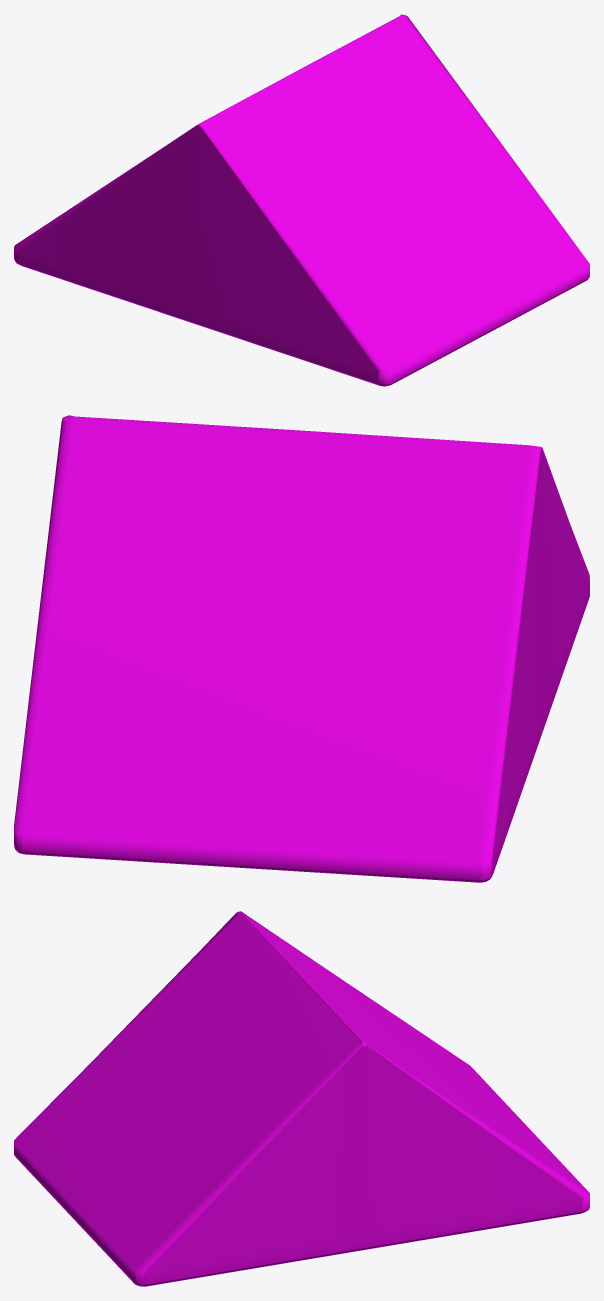
The model's file is Triangle FBX.fbx.
3 renders of one model, top to bottom at view 1: azimuth 30°, elevation 25°; view 2: azimuth 150°, elevation 25°; view 3: azimuth 270°, elevation 25°, orthographic. The views are drawn at different scales.
Parts seen in each view (by area): view 1: pCube5; view 2: pCube5; view 3: pCube5.
Part boxes in pixels (left/top/right/bottom): pCube5: left=14, top=14, right=589, bottom=386; pCube5: left=14, top=415, right=589, bottom=882; pCube5: left=14, top=911, right=589, bottom=1286.
Size of the model in its own units: 1.22 by 0.5741 by 1.43.
